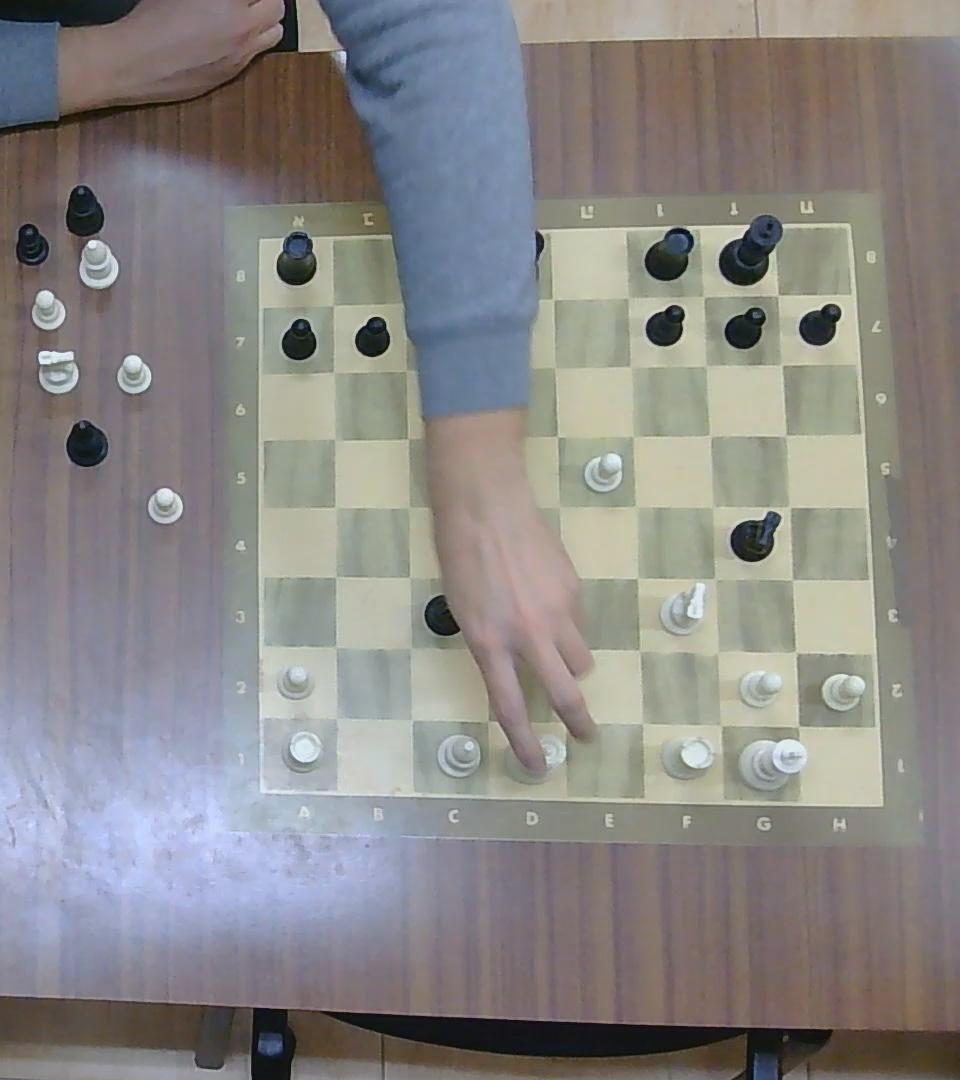xcorner: (702, 707, 736, 740), (781, 708, 813, 742), (700, 635, 732, 667), (470, 631, 501, 664), (626, 706, 657, 738), (393, 632, 424, 663), (780, 637, 811, 668), (776, 563, 807, 594), (395, 702, 425, 734), (625, 633, 655, 665), (320, 701, 350, 733), (466, 284, 496, 316), (393, 561, 423, 592), (549, 705, 580, 735), (547, 561, 577, 592), (468, 492, 498, 523), (320, 631, 350, 661), (471, 705, 501, 735), (699, 563, 728, 594), (553, 632, 582, 663), (470, 561, 499, 592), (537, 283, 566, 313), (615, 351, 645, 380), (621, 491, 651, 520), (467, 421, 495, 452), (320, 562, 349, 591), (622, 562, 651, 591), (613, 282, 642, 311), (698, 491, 727, 520), (544, 491, 573, 520), (775, 491, 804, 520), (393, 492, 422, 520), (616, 421, 645, 449), (539, 351, 567, 380), (317, 291, 346, 319), (391, 291, 419, 319), (320, 423, 348, 450), (321, 492, 349, 519), (543, 421, 570, 449), (320, 357, 347, 385), (392, 356, 419, 383), (692, 350, 719, 377), (394, 423, 420, 450), (696, 420, 722, 447), (768, 349, 794, 376), (465, 354, 491, 381), (690, 282, 716, 308), (772, 421, 798, 446), (765, 282, 791, 307)
